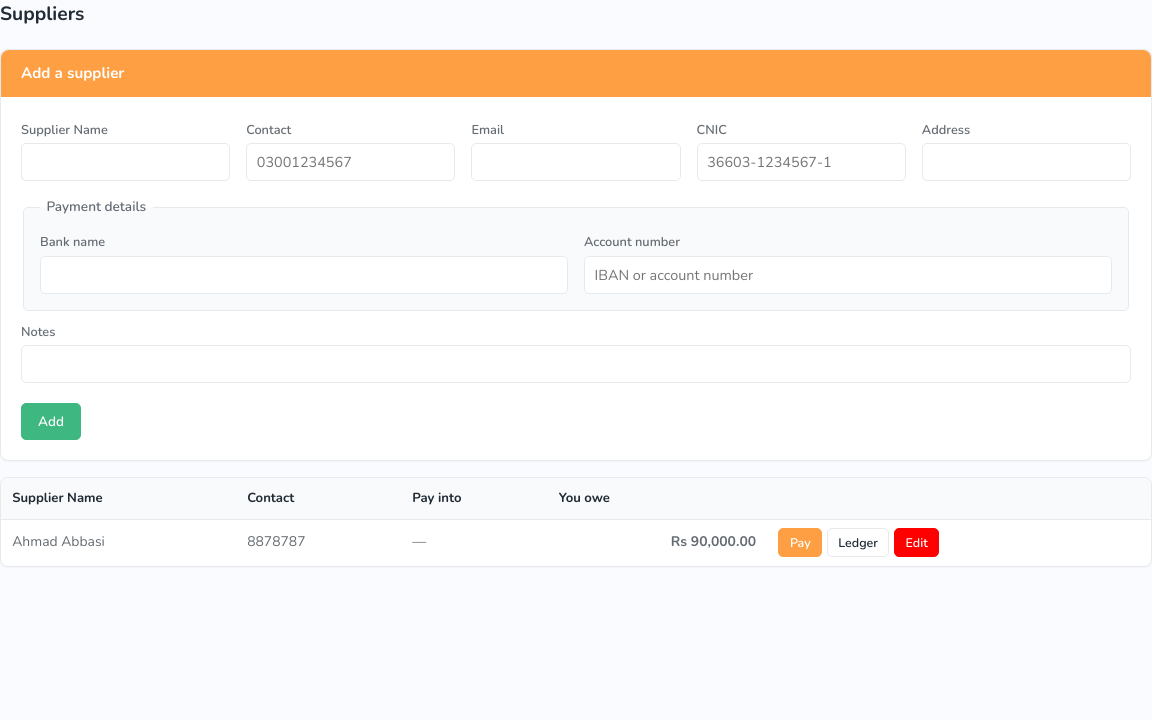
paying a supplier › asks how the money was paid, with nothing chosen in advance
Click the button "Pay" at (800, 543), box [778,528,822,557]
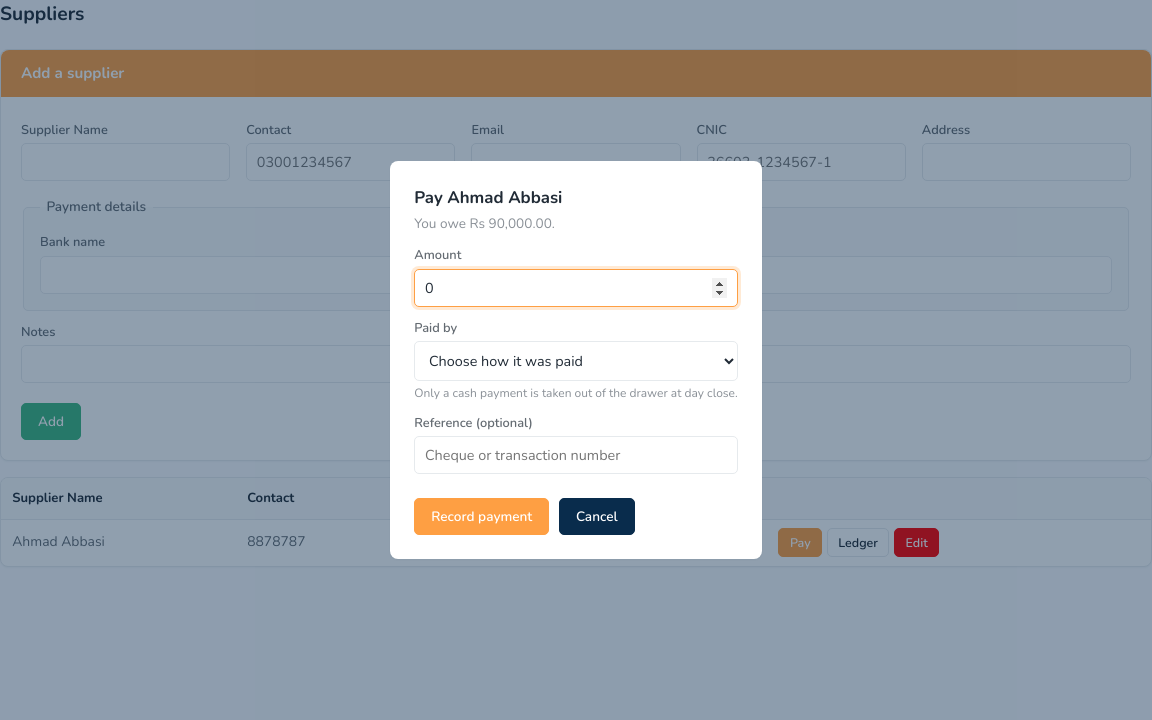
Result: the dropdown labelled "Paid by" shows "Choose how it was paid" at [414,341,738,381]
